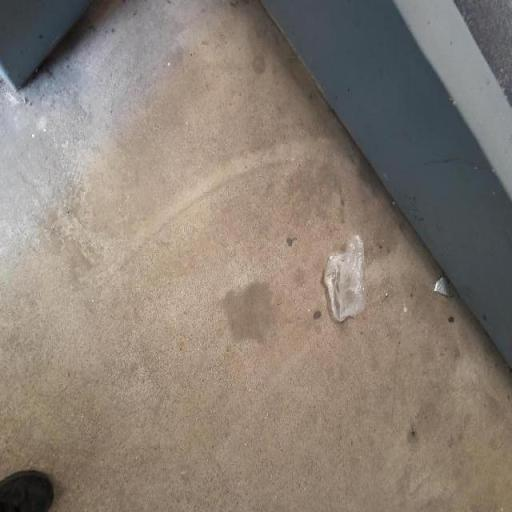plastic-bag: (321, 235, 369, 324)
